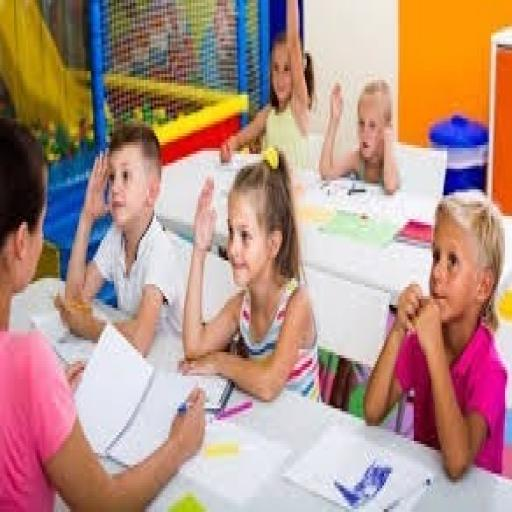sitting: (0, 113, 207, 509), (361, 186, 509, 480), (178, 145, 322, 405), (56, 118, 189, 364), (318, 74, 402, 195)
